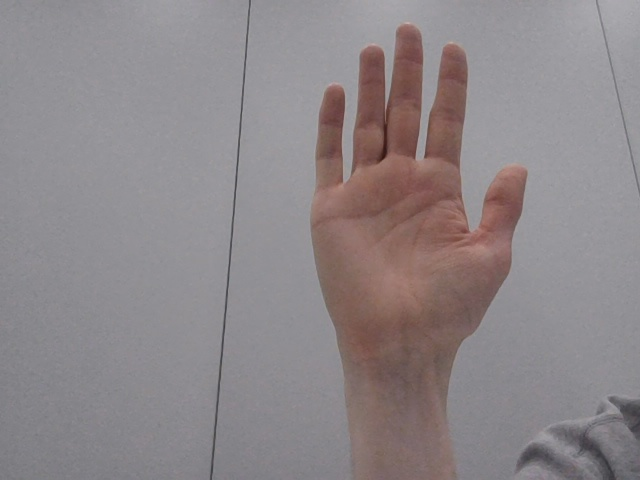nada: (283, 8, 541, 372)
